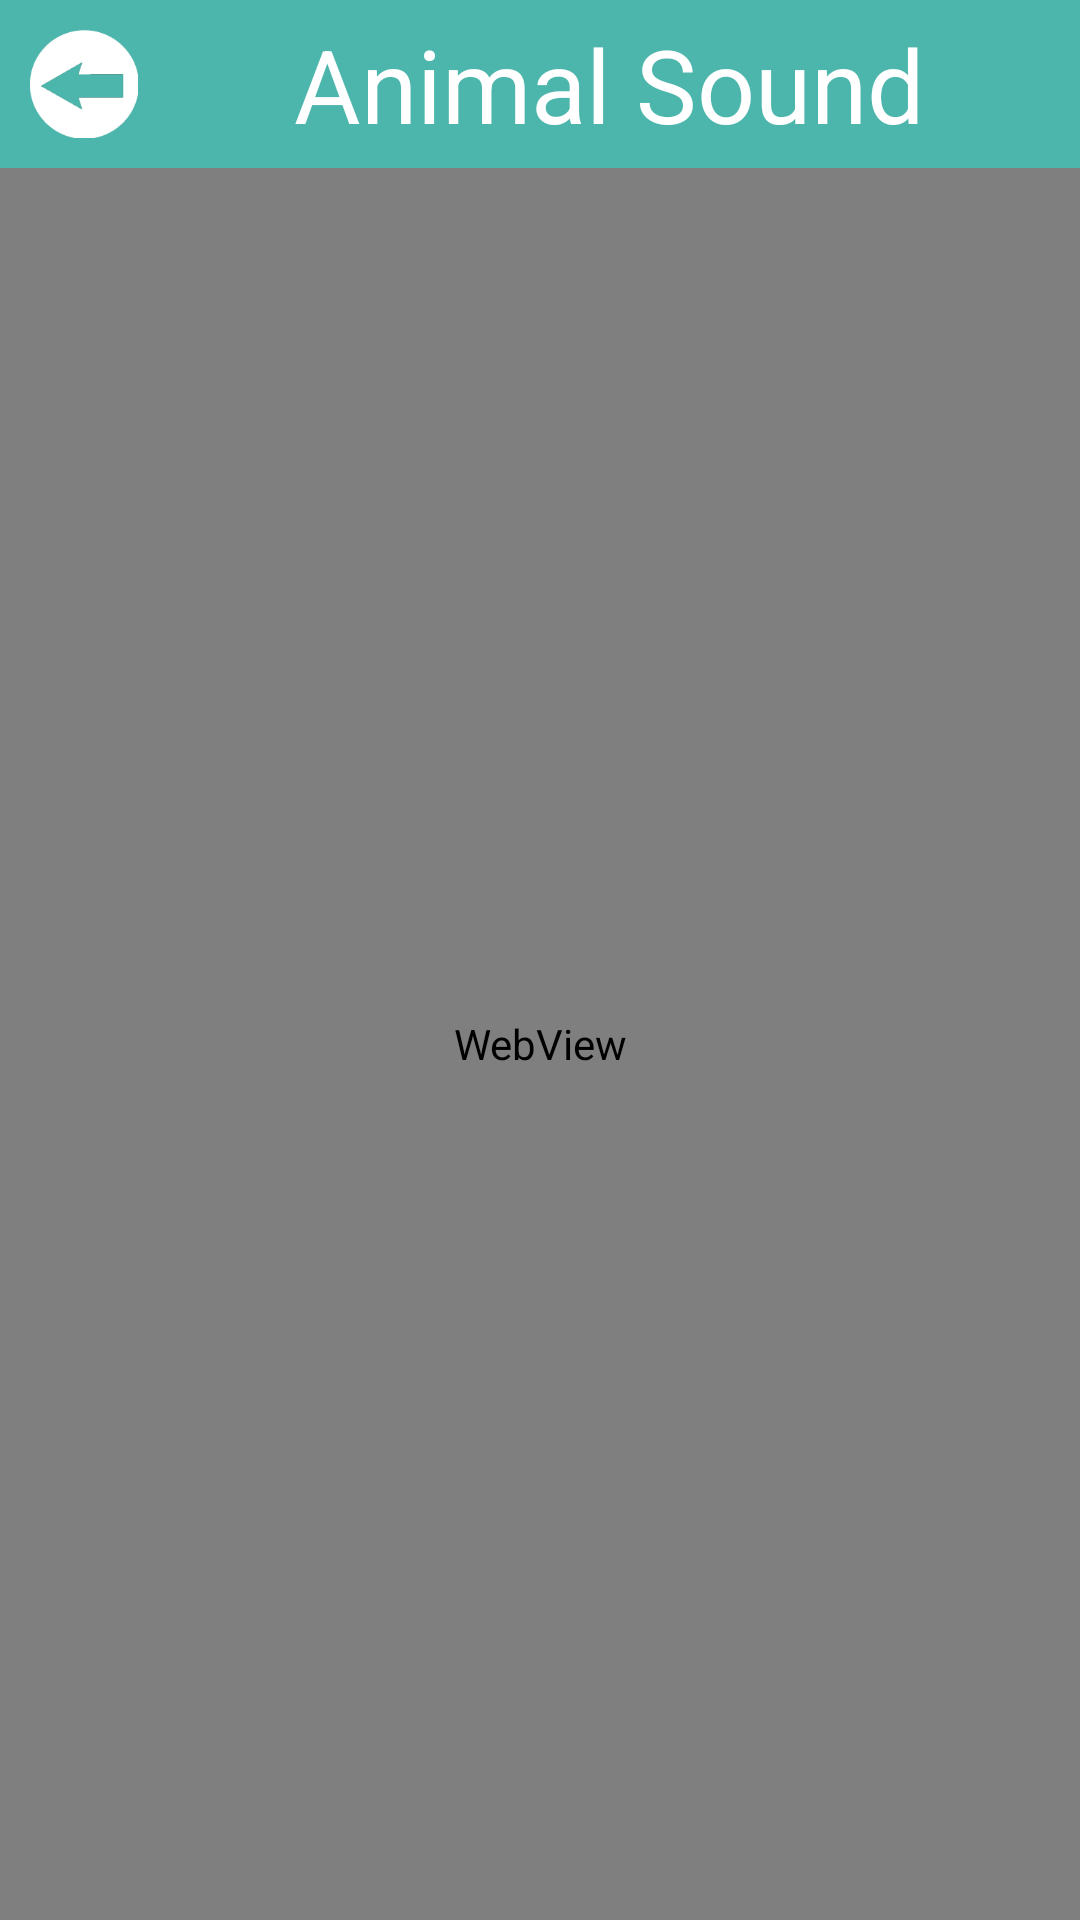

Named icons in this screenshot (1080px×1920px) and their bounding boxes, (x1, y1, x2, y2):
back: (30, 30, 138, 138)
